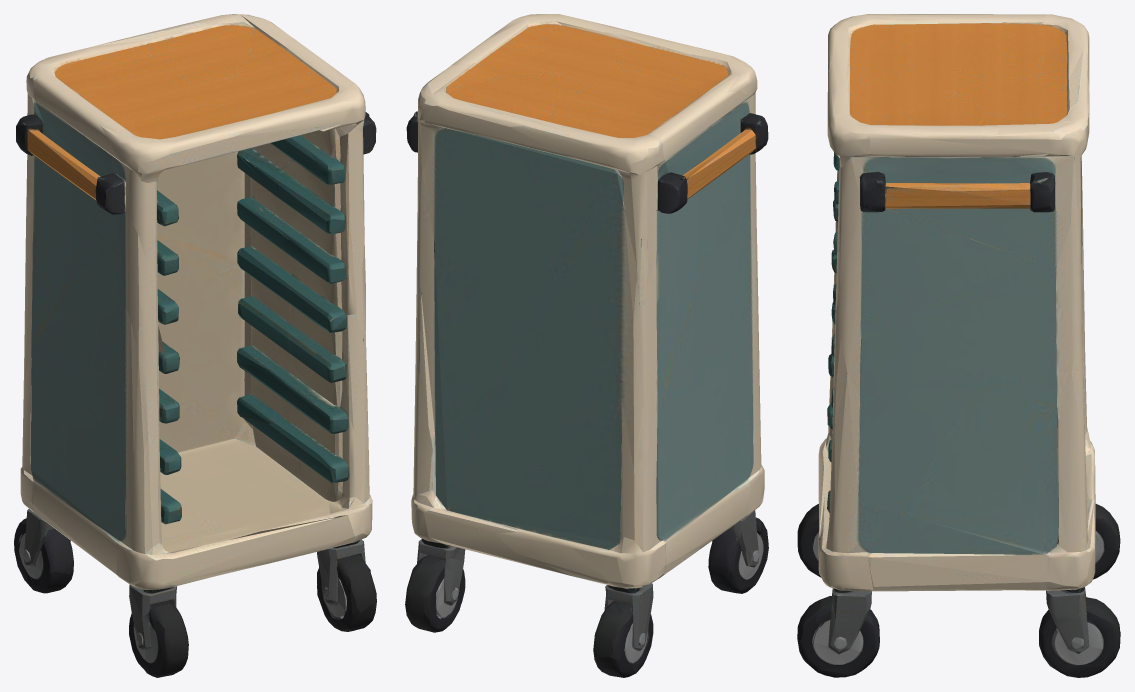
The model's file is rounded-restaurant-tray-return-cart-empty.glb.
3 views of the same model, side by side, from view 1: azimuth 30°, elevation 25°; view 2: azimuth 150°, elevation 25°; view 3: azimuth 270°, elevation 25° (orthographic). The views are drawn at different scales.
Parts seen in each view (by area): view 1: Mesh_0; view 2: Mesh_0; view 3: Mesh_0.
Boxes of the visible parts, x1,y1,x2,y2 form: Mesh_0: [14, 14, 376, 677]; Mesh_0: [405, 14, 768, 677]; Mesh_0: [797, 14, 1120, 677].
Size of the model in its own units: 0.5611 by 1.04 by 0.55.
Materials: 1 (1 with a texture image).
